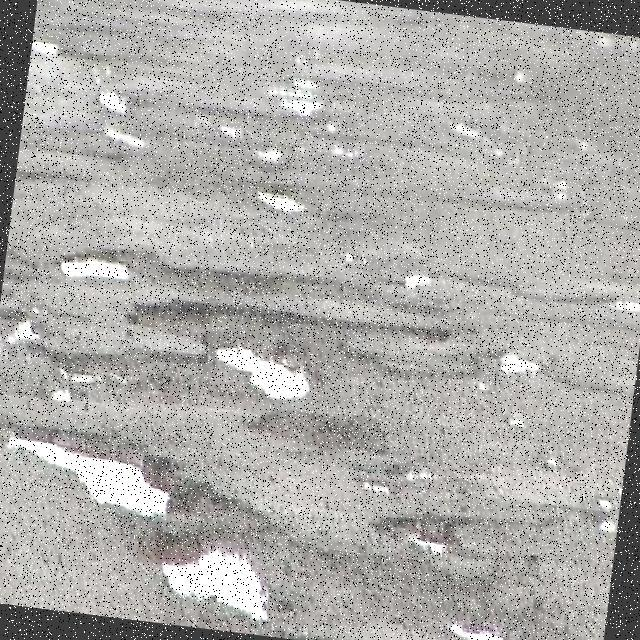Pothole: (115, 457, 606, 640), (0, 316, 250, 401), (135, 299, 450, 347), (5, 437, 167, 521), (110, 249, 383, 298), (370, 514, 593, 571), (159, 555, 275, 623), (213, 349, 312, 402), (54, 250, 132, 285), (13, 166, 88, 193), (255, 188, 307, 218), (500, 353, 544, 374), (103, 127, 144, 149), (97, 91, 124, 114), (408, 274, 431, 290)
